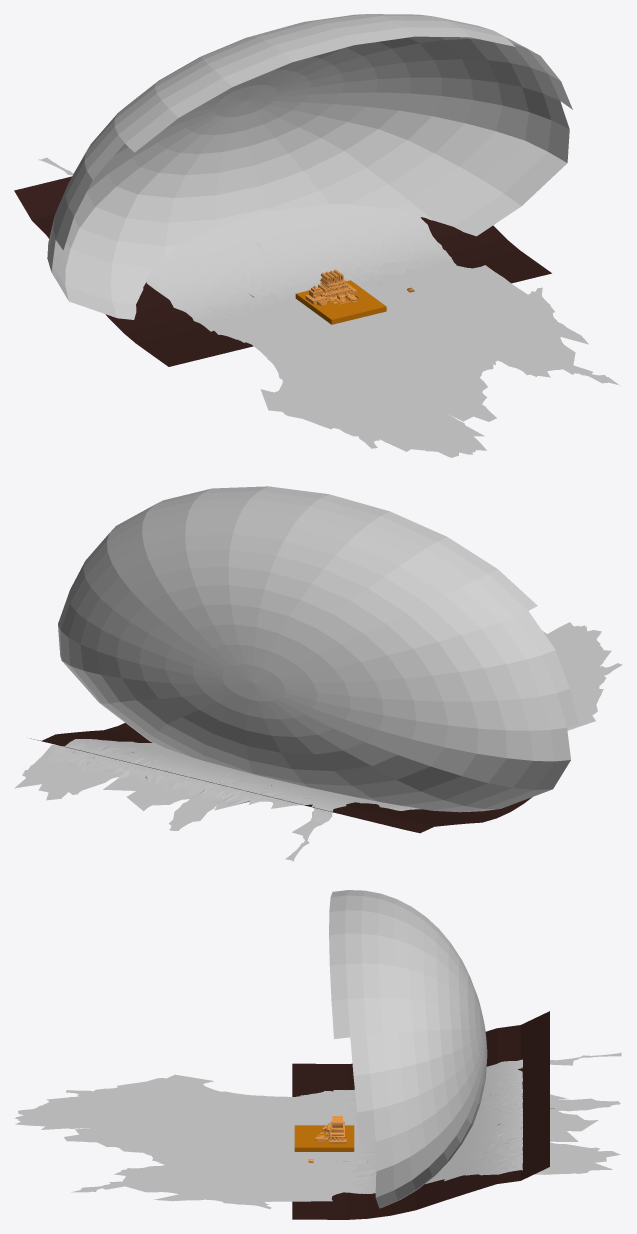
Rendered from santa.obj.
The picture shows the model from 3 angles, top to bottom: view 1: azimuth 30°, elevation 25°; view 2: azimuth 150°, elevation 25°; view 3: azimuth 270°, elevation 25°; orthographic projection. The views are drawn at different scales.
Visible parts, largest first — view 1: Sphere, Plane.002, Plane.001_Plane.006, Plane_Plane.001; view 2: Sphere, Plane.002, Plane.001_Plane.006; view 3: Plane.002, Sphere, Plane.001_Plane.006, Plane_Plane.001.
Part boxes in pixels (box(x1,y1,x2,y2)): Sphere: box(47, 14, 572, 319); Plane.002: box(38, 157, 620, 457); Plane.001_Plane.006: box(14, 176, 551, 366); Plane_Plane.001: box(295, 280, 386, 324); Sphere: box(58, 486, 578, 812); Plane.002: box(14, 622, 622, 861); Plane.001_Plane.006: box(30, 723, 532, 833); Plane.002: box(14, 1052, 621, 1209); Sphere: box(329, 890, 487, 1208); Plane.001_Plane.006: box(292, 1011, 549, 1219); Plane_Plane.001: box(294, 1125, 354, 1151).
Size of the model in its own units: 520 by 272 by 636.
